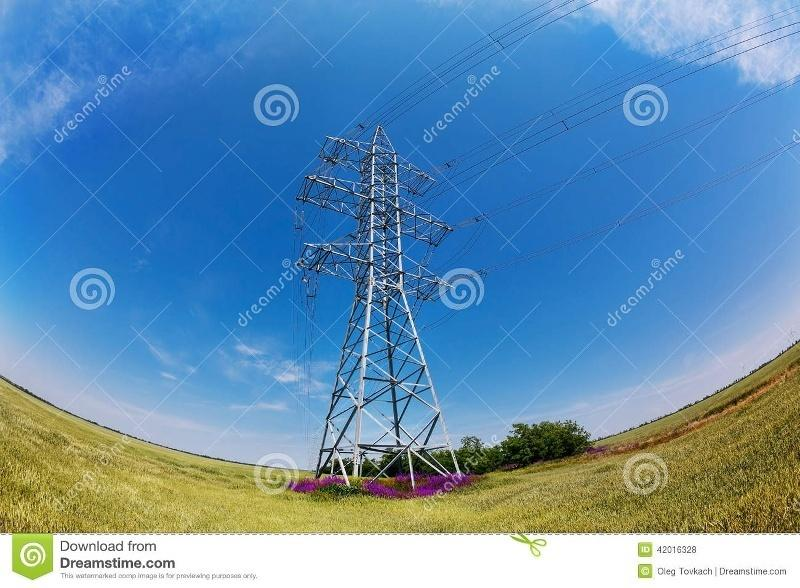power_tower: (293, 114, 470, 489)
